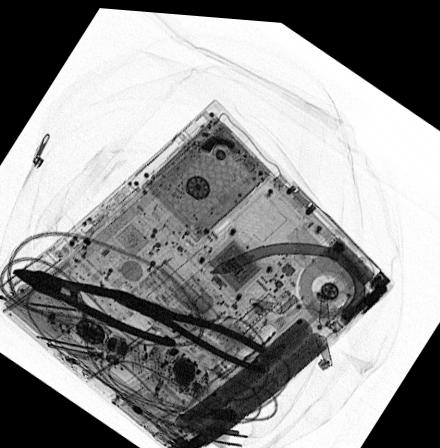Pliers: (106, 283, 269, 368), (10, 266, 177, 347)
